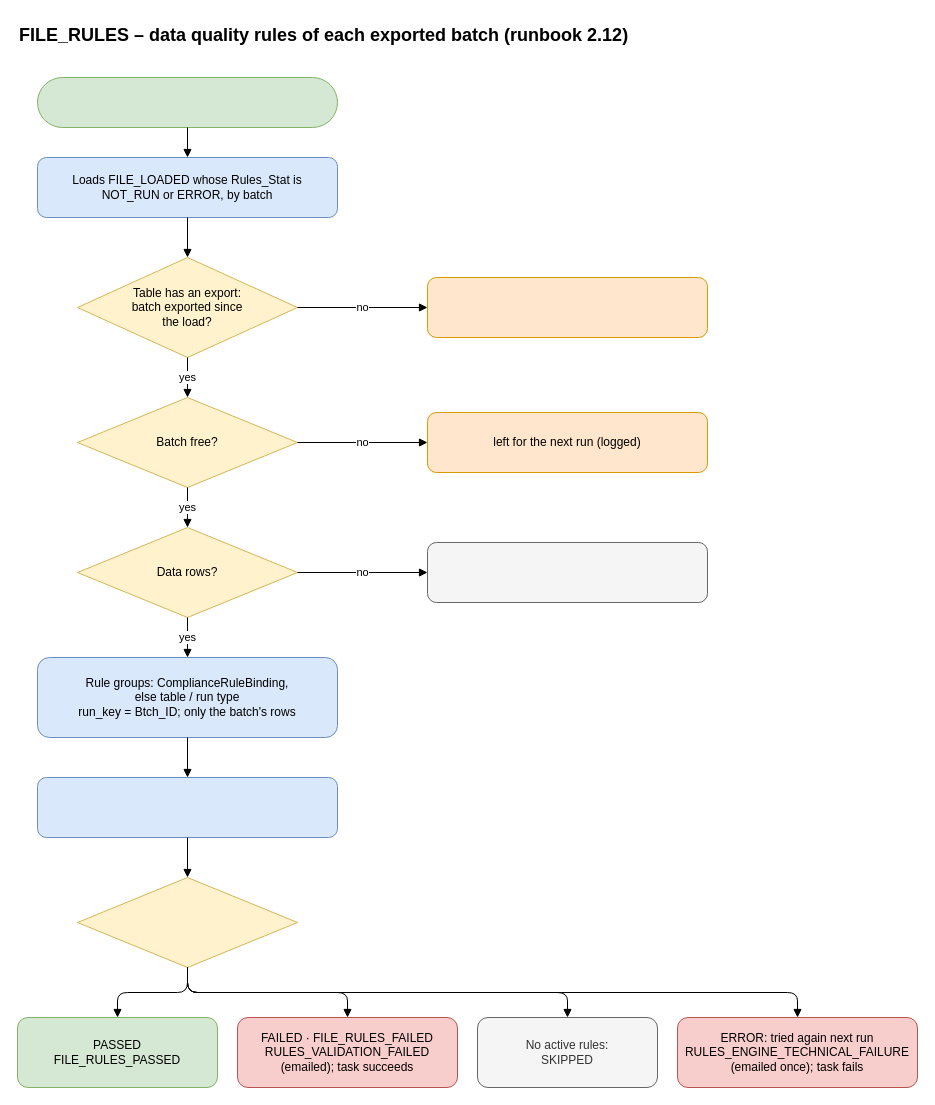
The diagram is 935 pixels wide and 1105 high, and some of its shapes have lost their labels. The centre of each missing label's shape, as x and y in pixels:
"FILE_RULES run (scope), pool gre_rules" belongs at (x=187, y=102).
"Result?" belongs at (x=187, y=922).
"SKIPPED (GRE not called)" belongs at (x=567, y=572).
"The GRE runs the rules (each rule's SQL in the task log)" belongs at (x=187, y=807).
"waiting for EXPORT_LOAD (logged)" belongs at (x=567, y=307).
